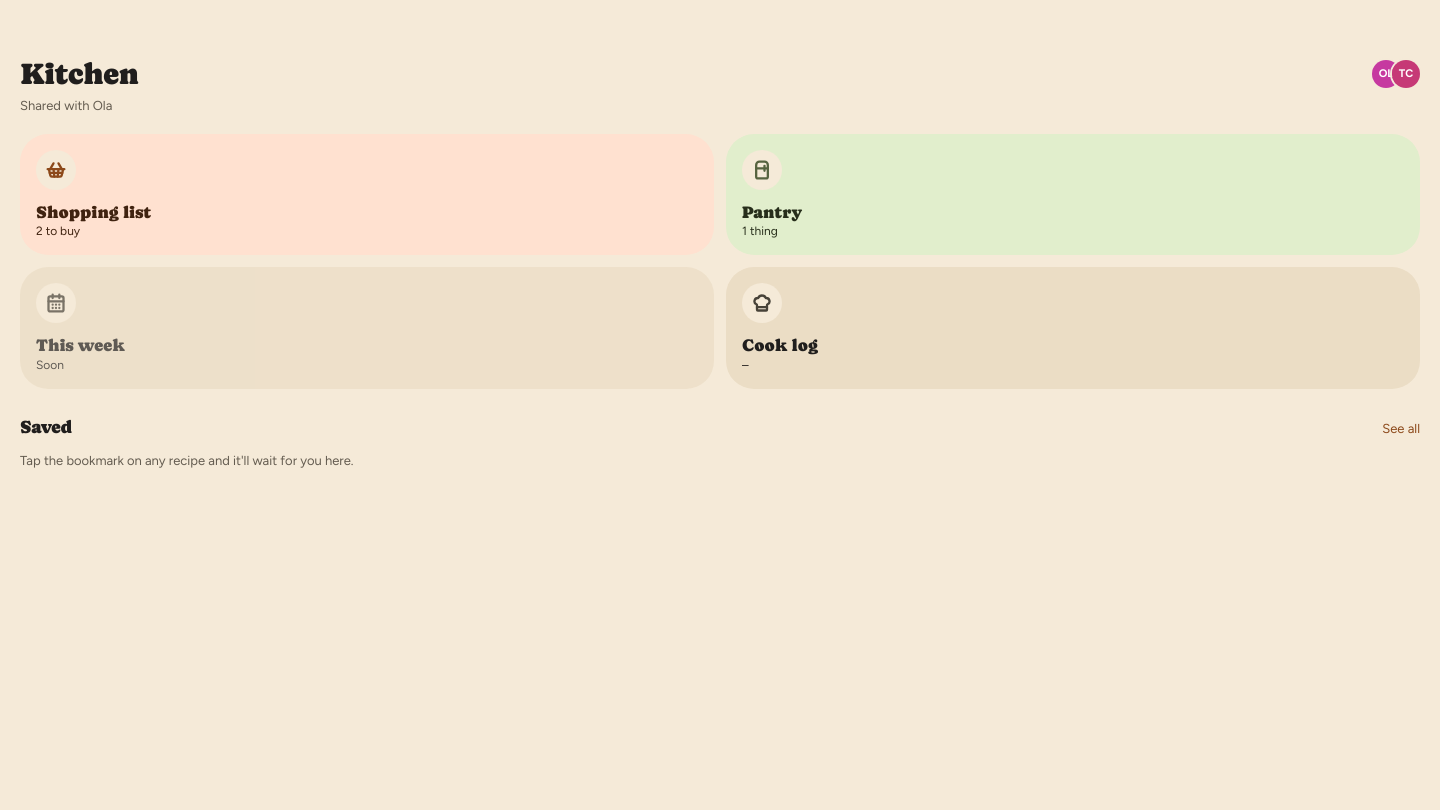
KitchenPage household (RL-239) › a member leaves after confirming, and sees no Invite or Remove
Click the button with aria-label "People. Shared with Ola" at (1396, 74), box [1372,52,1420,96]
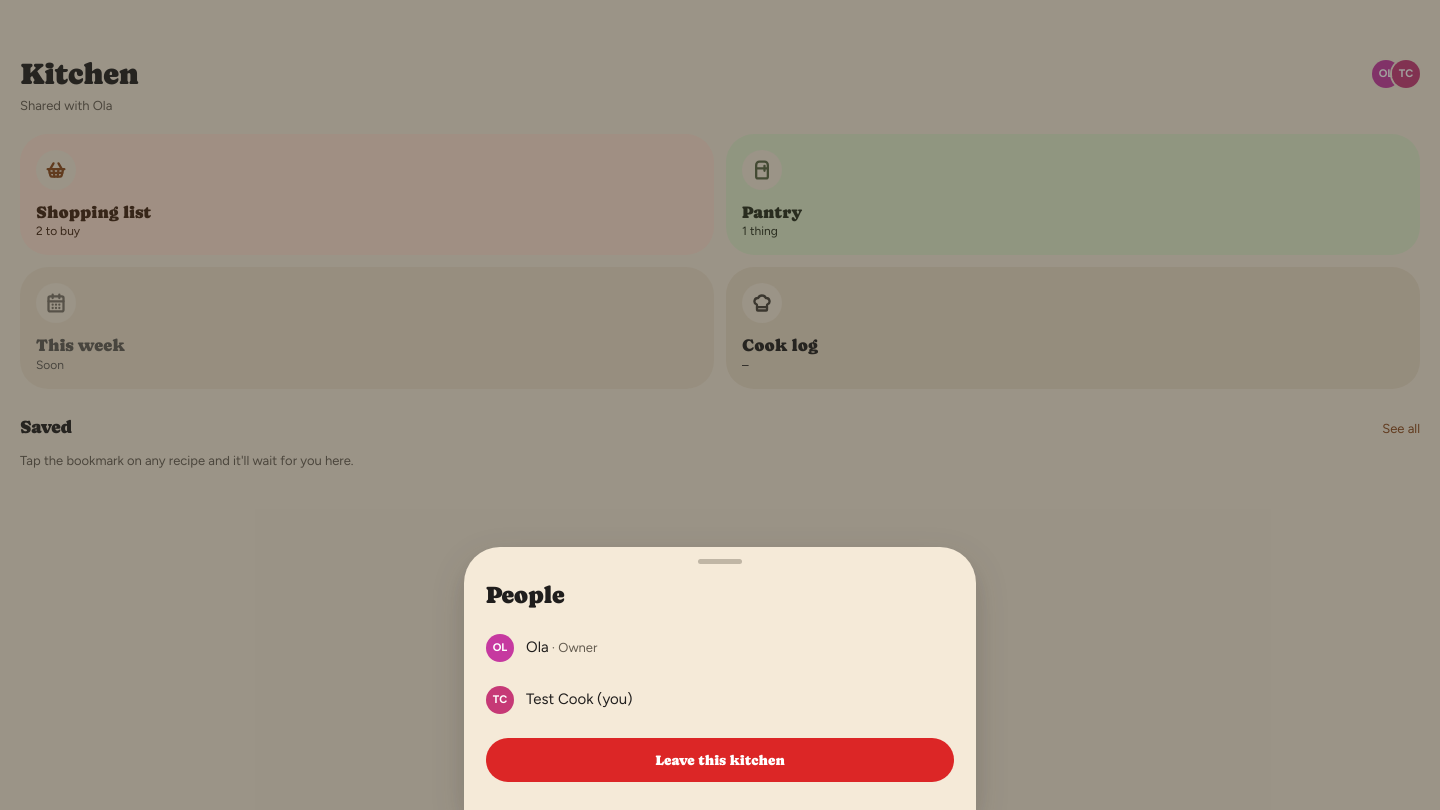
Click the button "Leave this kitchen" at (720, 760), box [486,738,954,782]
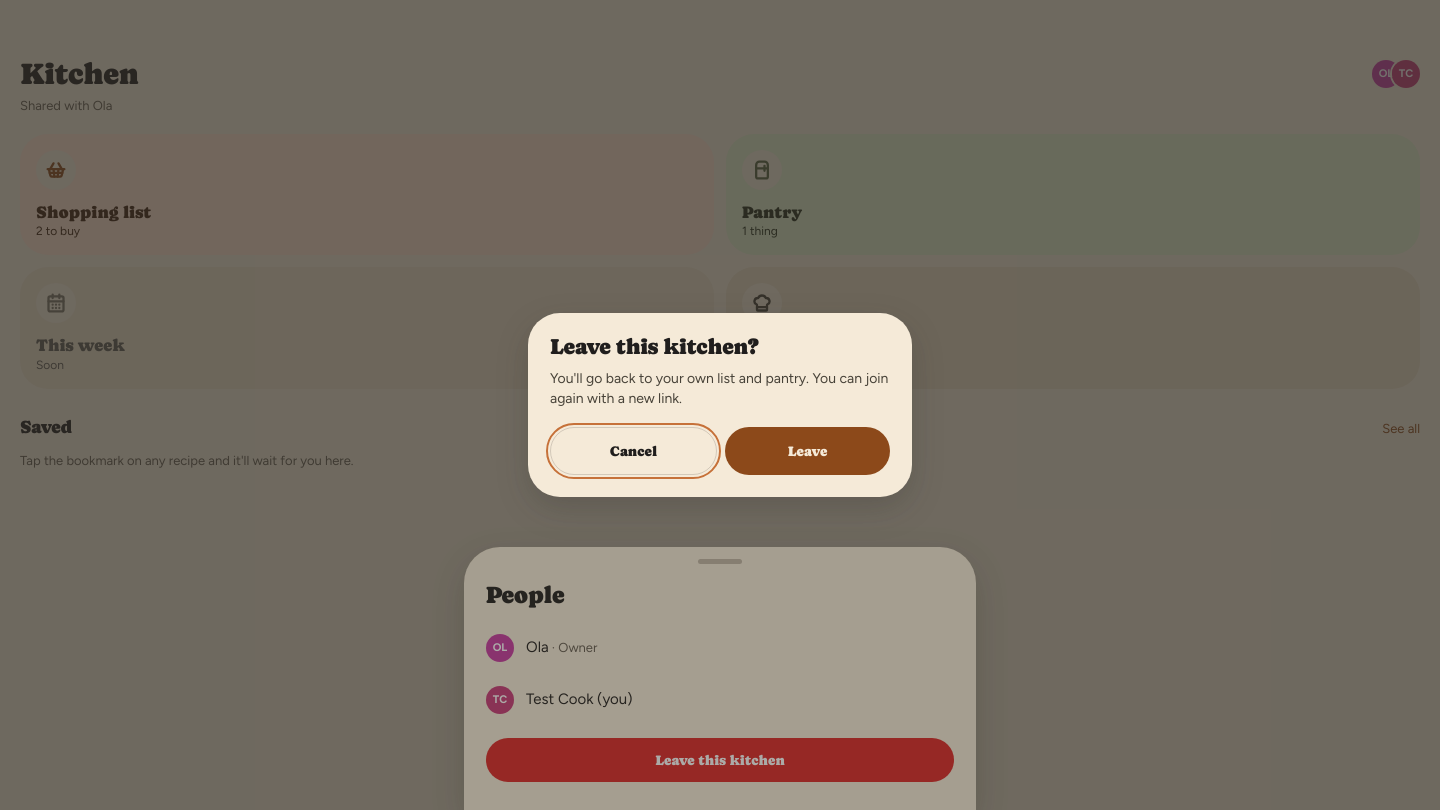
Click the button "Leave" at (808, 451), box [725,427,890,475]
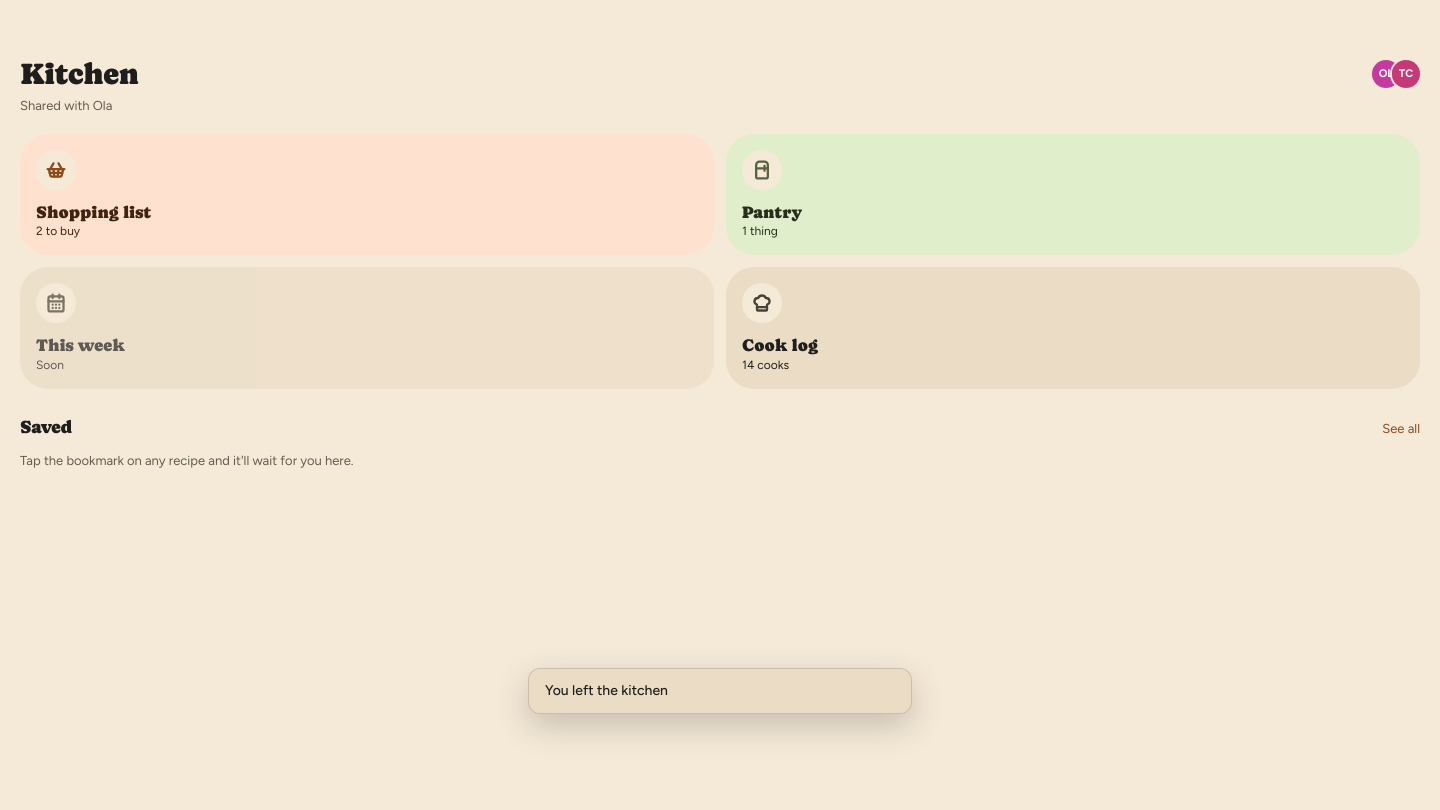
Now the text "You left the kitchen" is shown, box [528,668,912,714]
